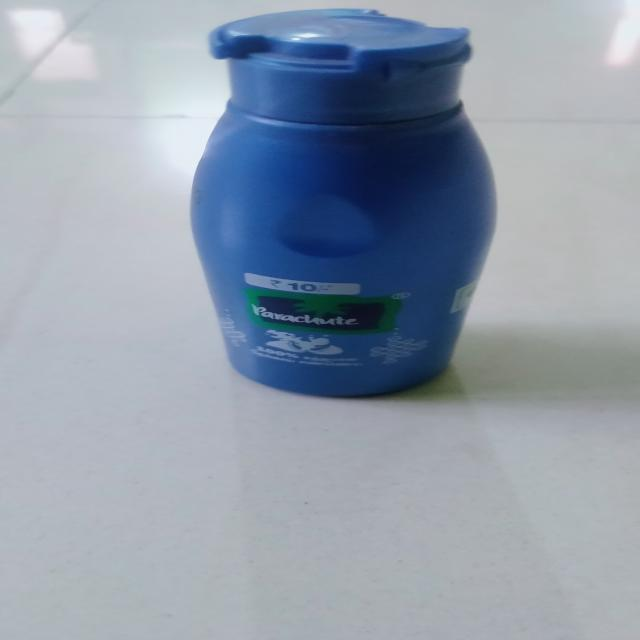oil: (196, 3, 510, 394)
